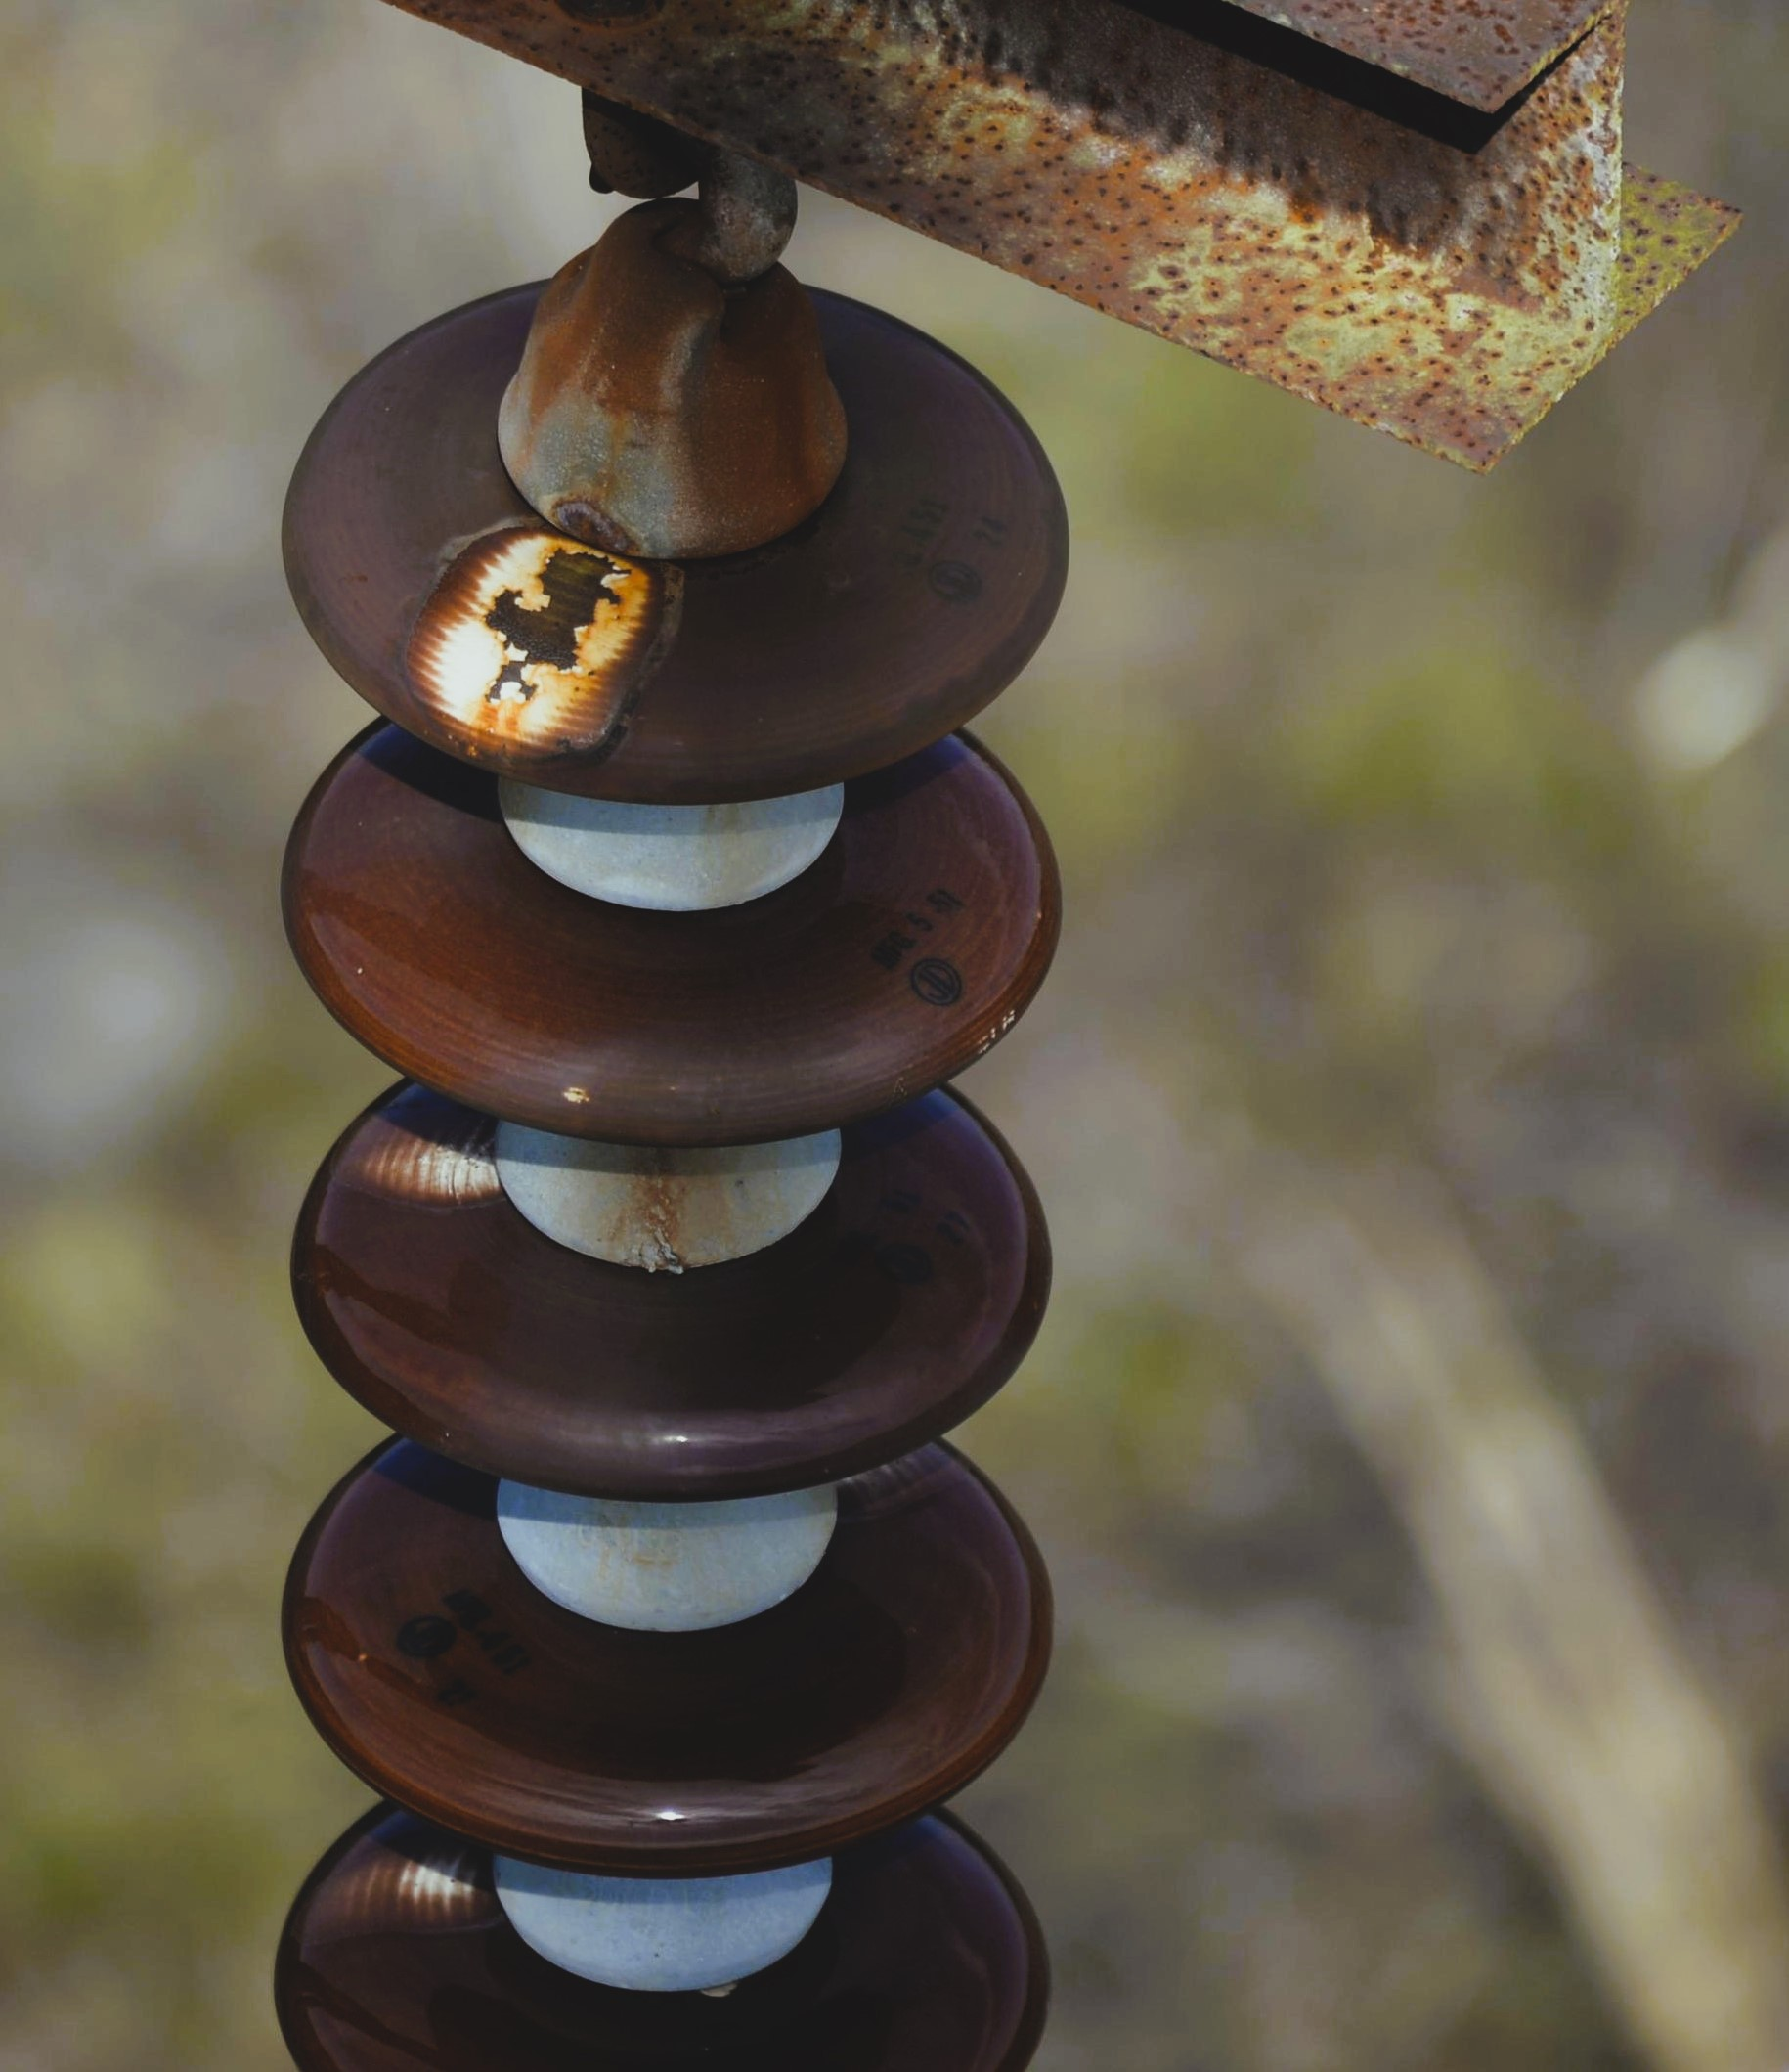Insulator flashover: (257, 266, 1086, 821)
